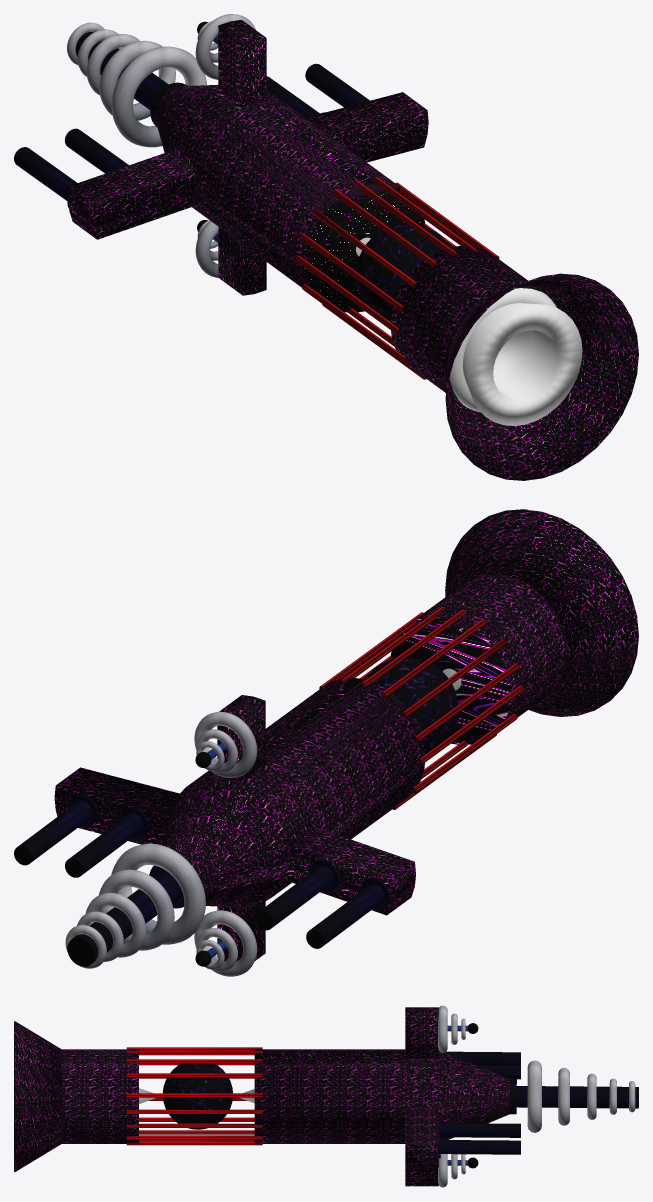
File: enemy_master.gltf
3 views of the same model, one above another, from view 1: azimuth 30°, elevation 25°; view 2: azimuth 150°, elevation 25°; view 3: azimuth 270°, elevation 25° (orthographic). The views are drawn at different scales.
Visible parts, largest first — view 1: Cylinder.001, Cone.000, Torus.006, Sphere.000, Torus.008, Torus.010, Cylinder.010, Cylinder.000, Cylinder.011, Cylinder.009, Torus.002, Torus.009 (+10 smaller); view 2: Cylinder.001, Sphere.000, Torus.006, Cylinder.000, Torus.008, Cylinder.011, Cylinder.009, Cylinder.016, Cylinder.010, Torus.002, Torus.005, Torus.009 (+12 smaller); view 3: Cylinder.001, Sphere.000, Cylinder.000, Cylinder.009, Cylinder.016, Torus.006, Cylinder.010, Cylinder.008, Cylinder.047, Torus.008, Cylinder.048, Cylinder.007 (+12 smaller).
Boxes of the visible parts, left/top/right/bottom form: Cylinder.001: left=68, top=20, right=638, bottom=480; Cone.000: left=462, top=303, right=582, bottom=425; Torus.006: left=111, top=46, right=206, bottom=147; Sphere.000: left=356, top=223, right=450, bottom=321; Torus.008: left=99, top=40, right=175, bottom=120; Torus.010: left=449, top=288, right=556, bottom=412; Cylinder.010: left=14, top=147, right=77, bottom=208; Cylinder.000: left=75, top=32, right=187, bottom=127; Cylinder.011: left=64, top=128, right=128, bottom=173; Cylinder.009: left=305, top=63, right=369, bottom=107; Torus.002: left=195, top=14, right=255, bottom=79; Torus.009: left=86, top=34, right=139, bottom=95; Cylinder.001: left=54, top=509, right=638, bottom=961; Sphere.000: left=364, top=657, right=458, bottom=754; Torus.006: left=111, top=843, right=205, bottom=944; Cylinder.000: left=67, top=865, right=184, bottom=966; Torus.008: left=98, top=869, right=174, bottom=950; Cylinder.011: left=255, top=859, right=339, bottom=930; Cylinder.009: left=14, top=794, right=98, bottom=865; Cylinder.016: left=65, top=807, right=149, bottom=877; Cylinder.010: left=306, top=878, right=390, bottom=948; Torus.002: left=194, top=711, right=257, bottom=778; Torus.005: left=194, top=910, right=257, bottom=976; Torus.009: left=85, top=893, right=146, bottom=957; Cylinder.001: left=14, top=1007, right=509, bottom=1186; Sphere.000: left=163, top=1063, right=232, bottom=1129; Cylinder.000: left=510, top=1079, right=638, bottom=1114; Cylinder.009: left=438, top=1135, right=520, bottom=1158; Cylinder.016: left=438, top=1118, right=520, bottom=1137; Torus.006: left=527, top=1060, right=541, bottom=1132; Cylinder.010: left=446, top=1051, right=520, bottom=1064; Cylinder.008: left=126, top=1073, right=262, bottom=1077; Cylinder.047: left=126, top=1093, right=262, bottom=1097; Torus.008: left=558, top=1067, right=569, bottom=1125; Cylinder.048: left=126, top=1109, right=262, bottom=1113; Cylinder.007: left=126, top=1059, right=262, bottom=1063.
Size of the model in its own units: 16.46 by 12.26 by 39.06.
24 materials, 23 textured.
